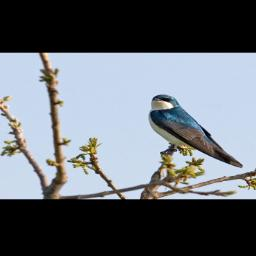Swallow: (143, 91, 248, 169)
